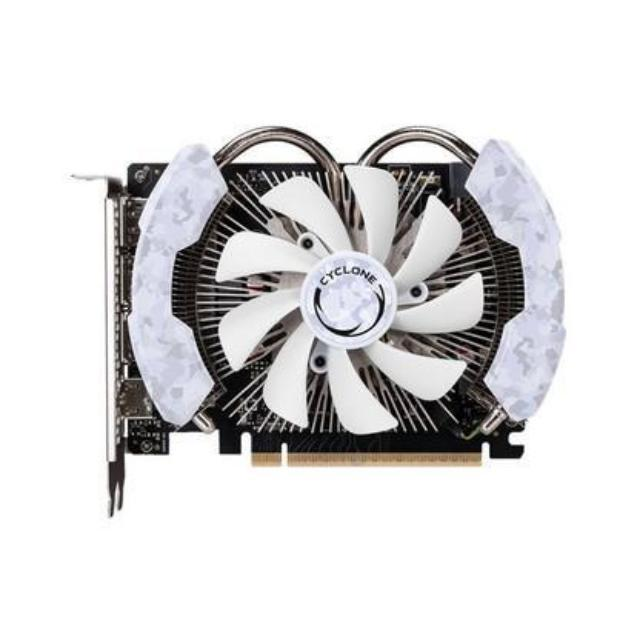GPU: (105, 144, 580, 472)
